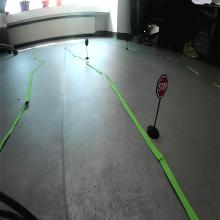stop: (156, 74, 170, 98)
